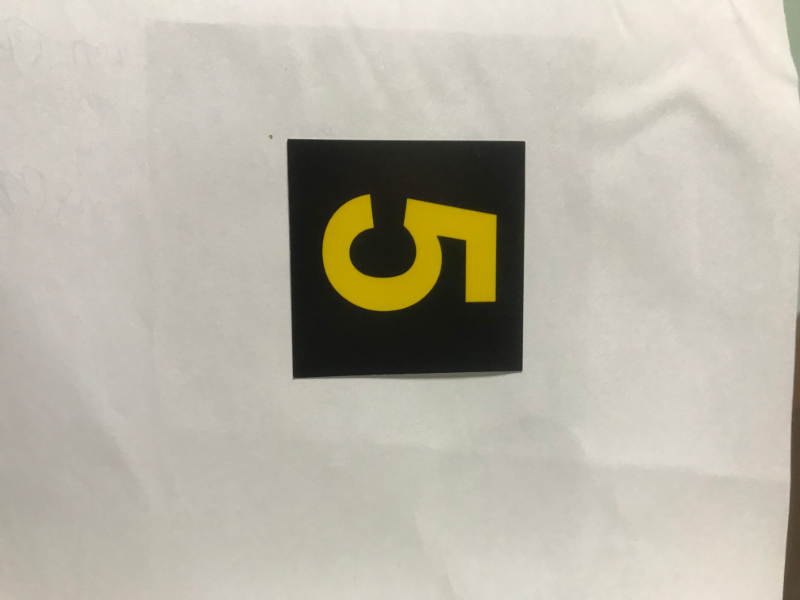Five-10: (296, 144, 522, 368)
